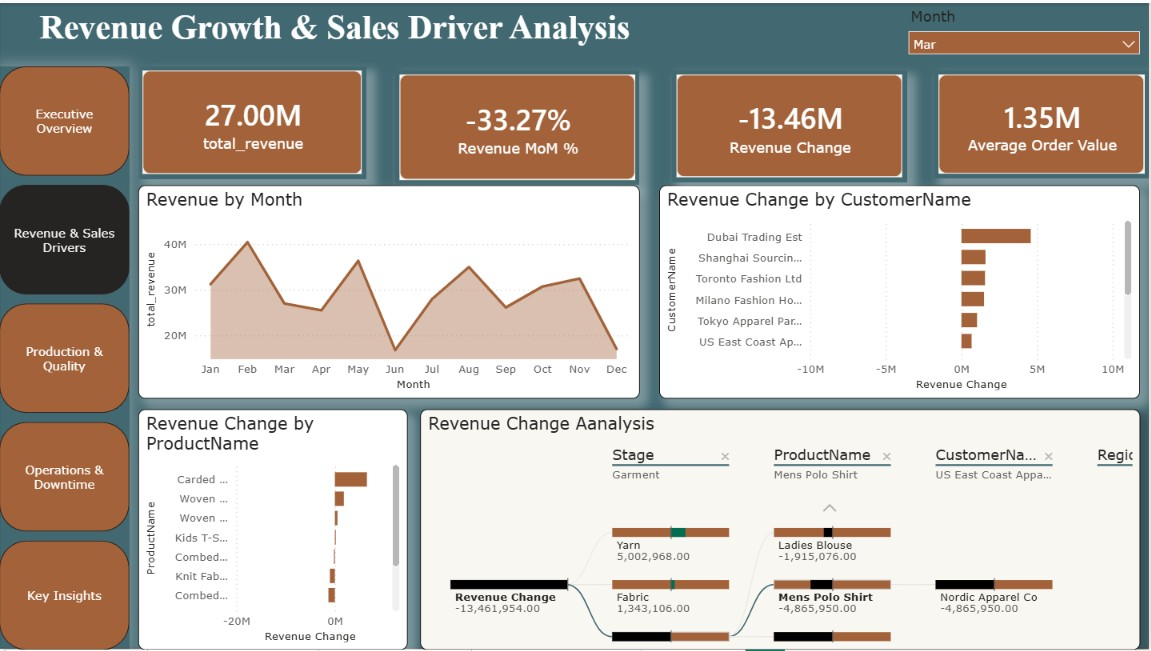

The page's visual inventory and layout, read from the dashboard file:
{"tool":"powerbi","page":{"name":"Revenue & Sales Drivers","canvas":[1280,720],"ordinal":1},"visuals":[{"type":"pageNavigator","box":[0,182.3,145.8,537.1],"z":0},{"type":"cardVisual","fields":{"Data":["measure.Average Order Value"]},"box":[1058.7,53.3,221.6,129],"z":1000},{"type":"cardVisual","fields":{"Data":["measure.Total Orders"]},"box":[845.6,54.7,224.4,129],"z":3000},{"type":"cardVisual","fields":{"Data":["measure.Revenue MoM %"]},"box":[387,53.3,234.2,129],"z":4000},{"type":"cardVisual","fields":{"Data":["measure.total_revenue"]},"box":[145.8,54.7,242.6,126.2],"z":5000},{"type":"lineChart","title":"Revenue by Month","fields":{"Category":["Date.Month"],"Y":["measure.total_revenue"]},"box":[150.2,184.4,611.2,242.4],"z":6000},{"type":"clusteredBarChart","fields":{"Category":["Dim_Products.ProductName"],"Y":["measure.Revenue Change"]},"box":[155.7,434.7,298.7,284.7],"z":7000},{"type":"clusteredBarChart","fields":{"Category":["Dim_Customers.CustomerName"],"Y":["measure.Revenue Change"]},"box":[774,184.4,496.1,242.9],"z":8000},{"type":"decompositionTreeVisual","title":"Revenue Change Aanalysis","fields":{"ExplainBy":["Dim_Products.Stage","Dim_Products.ProductName","Dim_Customers.CustomerName","Dim_Customers.Region"],"Analyze":["measure.Revenue Change"]},"box":[467.5,435.1,802.6,284.4],"z":9000},{"type":"slicer","fields":{"Values":["Date.Month"]},"box":[7,71.5,138.8,92.6],"z":10000},{"type":"cardVisual","fields":{"Data":["measure.Revenue Change"]},"box":[621.2,54.7,237,129],"z":11000},{"type":"textbox","box":[0,0,1280.3,65.9],"z":12000}]}

Visuals, with their boxes in screenshot pixels (x1, y1, x2, y2), scaled from the page's 1280x720 canvas onto the 1151x651 screenshot:
pageNavigator: (x1=0, y1=165, x2=131, y2=650)
cardVisual - measure.Average Order Value: (x1=952, y1=48, x2=1150, y2=165)
cardVisual - measure.Total Orders: (x1=760, y1=49, x2=962, y2=166)
cardVisual - measure.Revenue MoM %: (x1=348, y1=48, x2=559, y2=165)
cardVisual - measure.total_revenue: (x1=131, y1=49, x2=349, y2=164)
"Revenue by Month" lineChart: (x1=135, y1=167, x2=685, y2=386)
clusteredBarChart - Dim_Products.ProductName x measure.Revenue Change: (x1=140, y1=393, x2=409, y2=650)
clusteredBarChart - Dim_Customers.CustomerName x measure.Revenue Change: (x1=696, y1=167, x2=1142, y2=386)
"Revenue Change Aanalysis" decompositionTreeVisual: (x1=420, y1=393, x2=1142, y2=650)
slicer - Date.Month: (x1=6, y1=65, x2=131, y2=148)
cardVisual - measure.Revenue Change: (x1=559, y1=49, x2=772, y2=166)
textbox: (x1=0, y1=0, x2=1150, y2=60)
